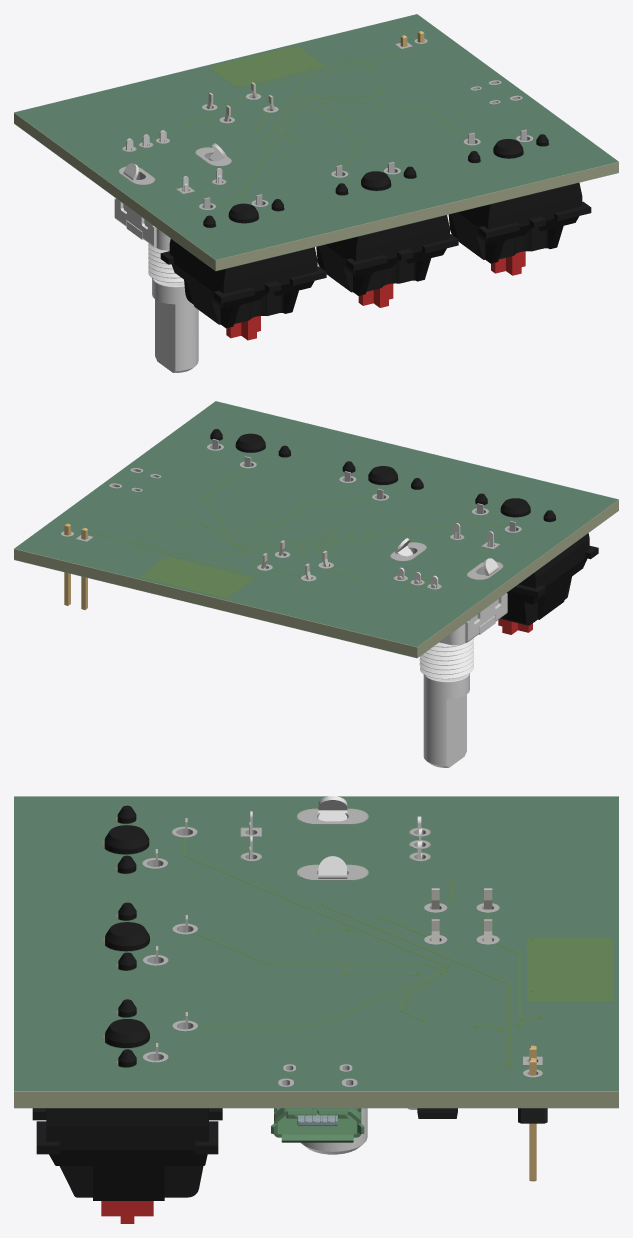
File: HackroPad.glb
3 renders of one model, top to bottom at view 1: azimuth 30°, elevation 25°; view 2: azimuth 150°, elevation 25°; view 3: azimuth 270°, elevation 25°, orthographic. The views are drawn at different scales.
Visible parts, largest first — view 1: =>[0:1:1:34], =>[0:1:1:32], Component1:1 (×3), =>[0:1:1:15], =>[0:1:1:28], =>[0:1:1:29], Component2:1 (×3), =>[0:1:1:33]; view 2: =>[0:1:1:34], =>[0:1:1:32], =>[0:1:1:15], Component1:1 (×3), =>[0:1:1:28], =>[0:1:1:29], =>[0:1:1:25], =>[0:1:1:33]; view 3: =>[0:1:1:32], =>[0:1:1:34], Component1:1 (×3), =>[0:1:1:28], =>[0:1:1:29], =>[0:1:1:17], =>[0:1:1:15], =>[0:1:1:25], Component2:1, =>[0:1:1:27], =>[0:1:1:33].
Boxes of the visible parts, bbox=[...] form: =>[0:1:1:34]: bbox=[14, 15, 618, 270]; =>[0:1:1:32]: bbox=[14, 14, 618, 259]; Component1:1 (×3): bbox=[160, 129, 591, 328]; =>[0:1:1:15]: bbox=[114, 130, 226, 372]; =>[0:1:1:28]: bbox=[186, 46, 467, 204]; =>[0:1:1:29]: bbox=[119, 39, 533, 209]; Component2:1 (×3): bbox=[226, 251, 525, 340]; =>[0:1:1:33]: bbox=[14, 123, 617, 271]; =>[0:1:1:34]: bbox=[14, 402, 618, 657]; =>[0:1:1:32]: bbox=[14, 401, 618, 646]; =>[0:1:1:15]: bbox=[395, 523, 507, 767]; Component1:1 (×3): bbox=[210, 429, 598, 625]; =>[0:1:1:28]: bbox=[88, 468, 505, 598]; =>[0:1:1:29]: bbox=[61, 444, 521, 589]; =>[0:1:1:25]: bbox=[64, 523, 87, 609]; =>[0:1:1:33]: bbox=[14, 510, 618, 658]; =>[0:1:1:32]: bbox=[14, 796, 618, 1091]; =>[0:1:1:34]: bbox=[14, 797, 618, 1107]; Component1:1 (×3): bbox=[32, 805, 222, 1200]; =>[0:1:1:28]: bbox=[184, 838, 612, 1066]; =>[0:1:1:29]: bbox=[142, 809, 542, 1086]; =>[0:1:1:17]: bbox=[271, 1108, 364, 1142]; =>[0:1:1:15]: bbox=[249, 796, 422, 1154]; =>[0:1:1:25]: bbox=[518, 1045, 547, 1181]; Component2:1: bbox=[101, 1201, 153, 1223]; =>[0:1:1:27]: bbox=[431, 888, 492, 942]; =>[0:1:1:33]: bbox=[14, 1108, 618, 1108].
Bounding box in the file's own units: 0.061 × 0.0302 × 0.052.
